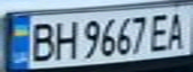6: (115, 14, 136, 56), (100, 15, 118, 57)
7: (130, 12, 151, 55)
9: (78, 16, 103, 60)
A: (163, 9, 190, 51)
B: (24, 19, 57, 63)
E: (148, 11, 172, 53)
H: (51, 17, 78, 61)
